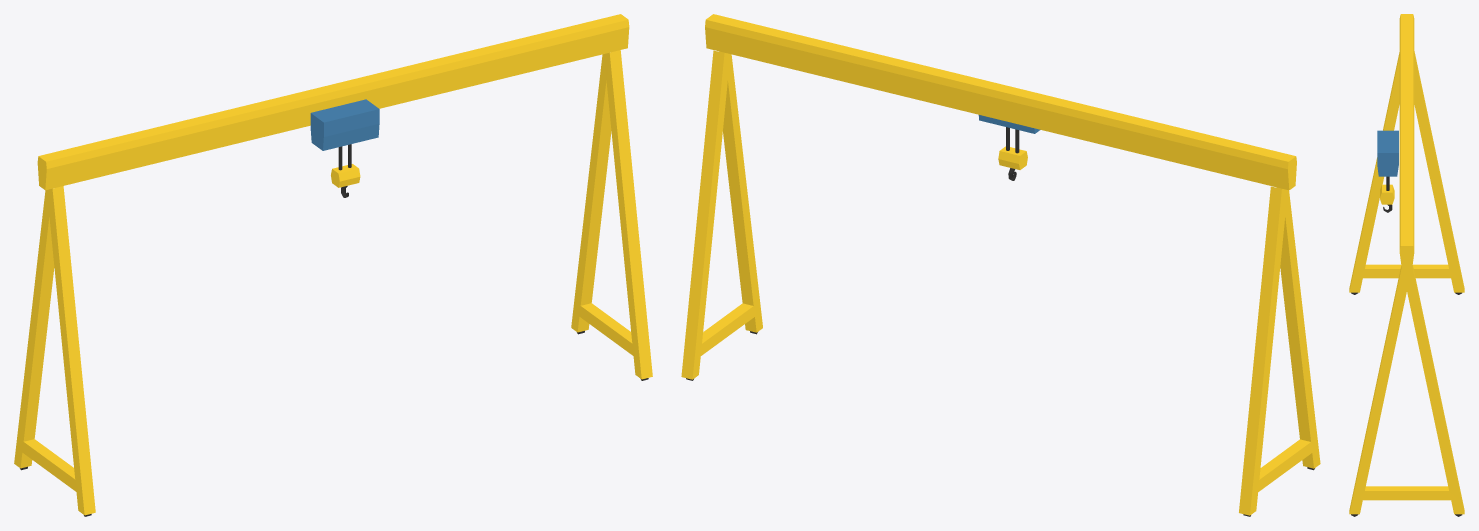
Rendered from crane-port.glb.
The picture shows the model from 3 angles, left to right: view 1: azimuth 30°, elevation 25°; view 2: azimuth 150°, elevation 25°; view 3: azimuth 270°, elevation 25°; orthographic projection. The views are drawn at different scales.
Visible parts, largest first — view 1: crane-port; view 2: crane-port; view 3: crane-port.
Boxes of the visible parts, x1,y1,x2,y2 form: crane-port: [14, 14, 652, 516]; crane-port: [681, 14, 1320, 516]; crane-port: [1349, 14, 1464, 516].
Bounding box in the file's own units: 20.92 × 11.56 × 4.39.
1 material, 1 textured.
